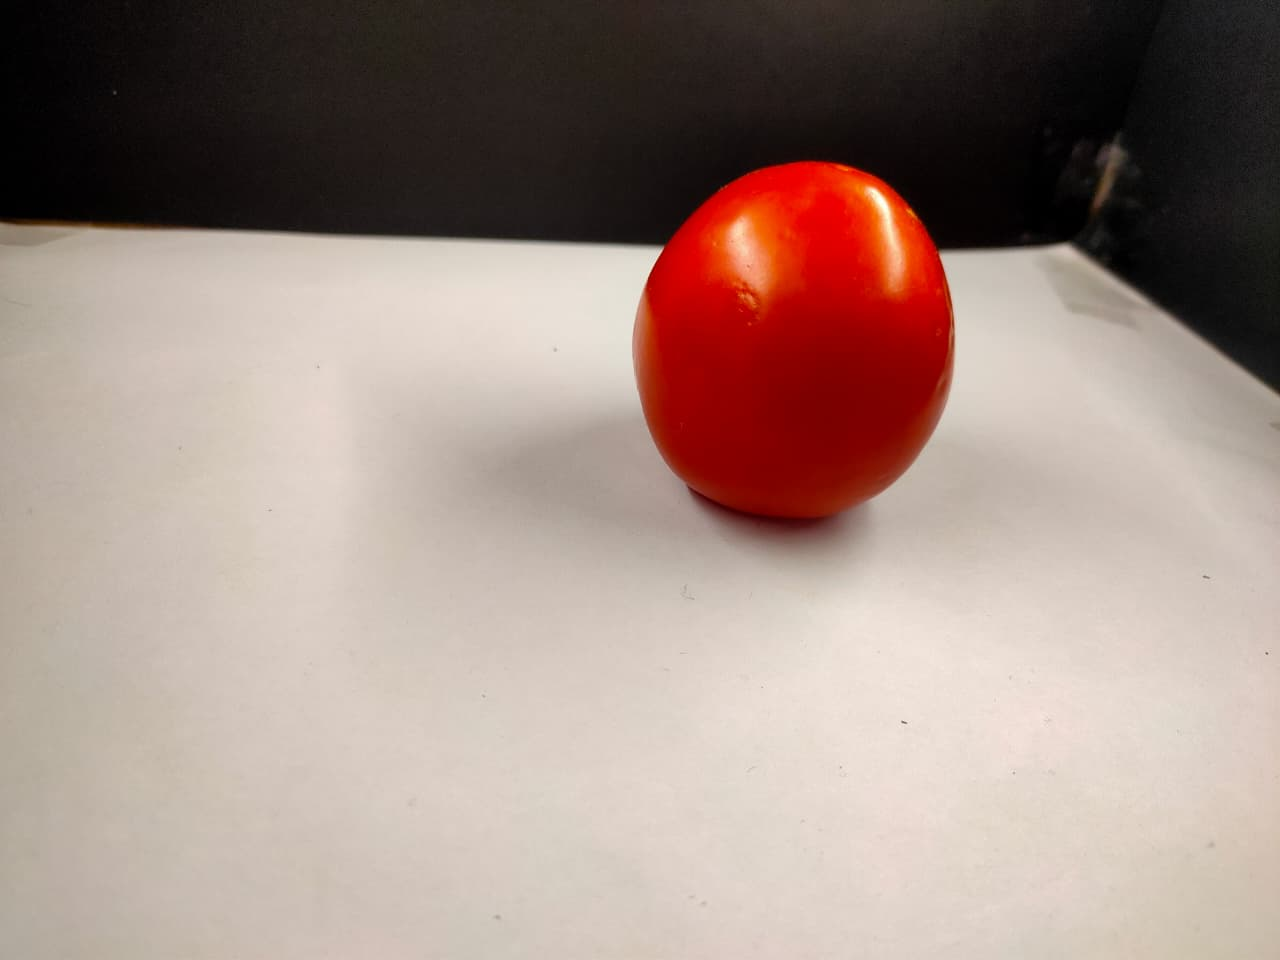ripe: (628, 141, 967, 554)
